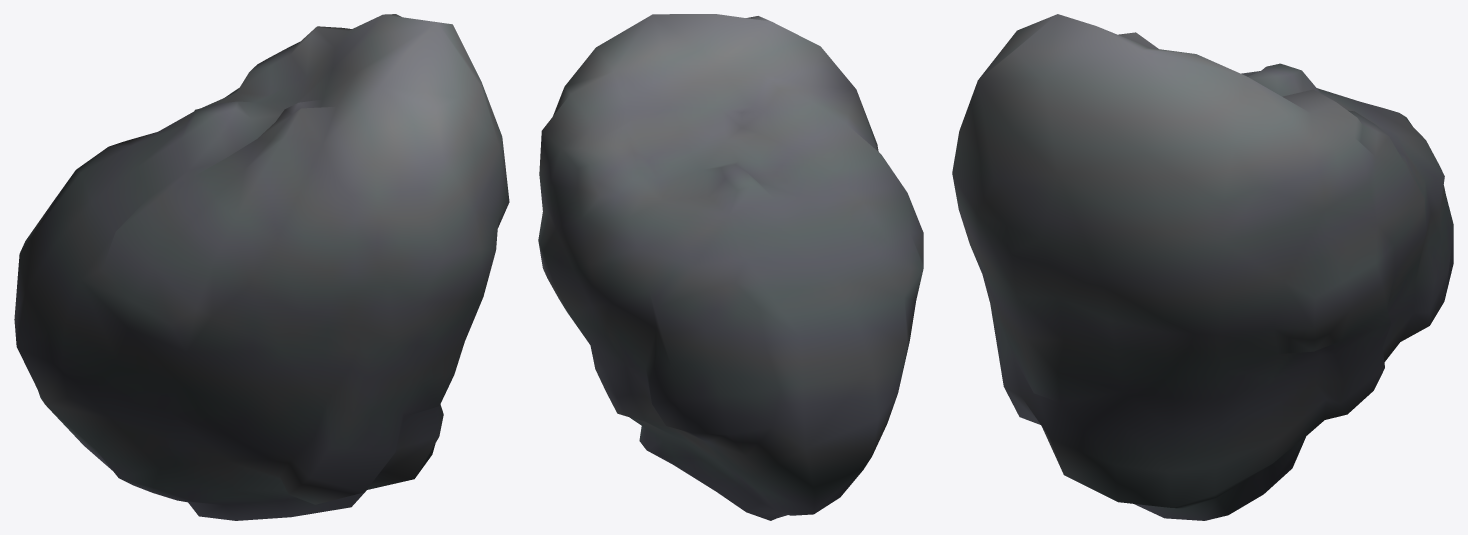
Rendered from M_Environment_StoneM_05.fbx.
3 renders of one model, left to right at view 1: azimuth 30°, elevation 25°; view 2: azimuth 150°, elevation 25°; view 3: azimuth 270°, elevation 25°, orthographic. The views are drawn at different scales.
Parts seen in each view (by area): view 1: M_Environment_StoneM_05; view 2: M_Environment_StoneM_05; view 3: M_Environment_StoneM_05.
Part boxes in pixels (x1,y1,x2,y2): M_Environment_StoneM_05: (14, 14, 509, 520); M_Environment_StoneM_05: (538, 14, 923, 520); M_Environment_StoneM_05: (952, 14, 1453, 520).
Bounding box in the file's own units: 550 × 614 × 534.
1 material, 1 textured.
